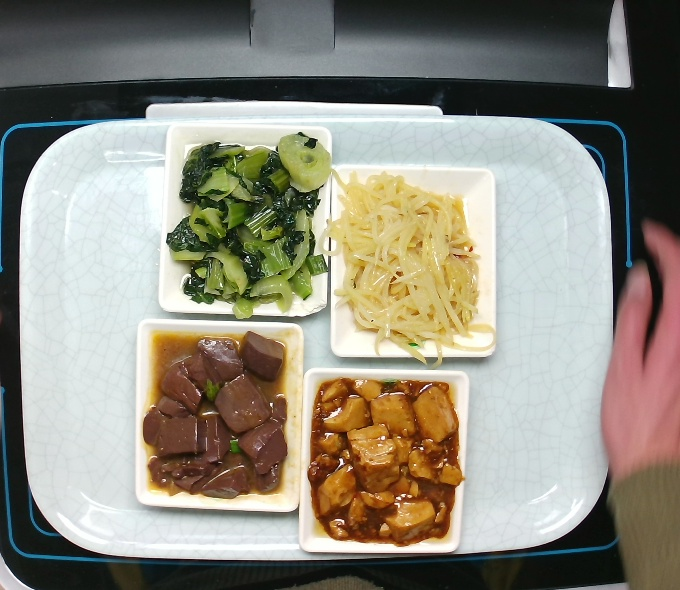wcq-MaPoDouFu: (297, 358, 470, 556)
wcq-NiuXue: (132, 324, 305, 522)
wcq-TuDouSi: (320, 170, 493, 368)
wcq-YouDongCai: (159, 123, 332, 321)
